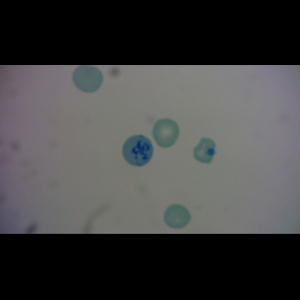aggregate reticulocyte: (121, 134, 155, 168)
erythrocyte: (71, 65, 104, 94), (151, 118, 181, 149), (192, 136, 218, 165), (163, 204, 192, 230)
